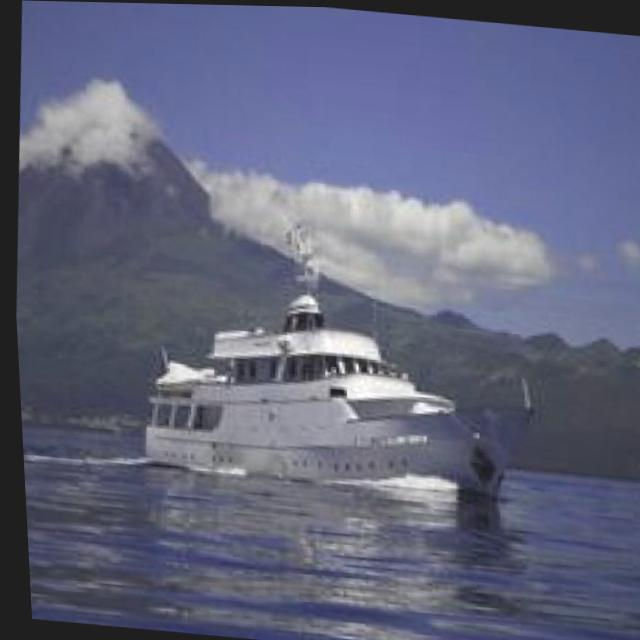ship2: (139, 224, 476, 490)
